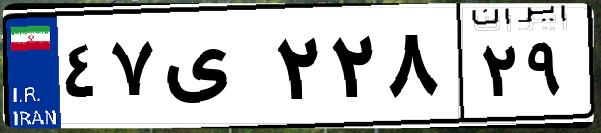2: (270, 28, 330, 110), (330, 28, 385, 110), (475, 38, 525, 113)
4: (57, 26, 110, 100)
7: (110, 28, 158, 98)
8: (385, 28, 445, 110)
9: (525, 38, 570, 115)
ی: (158, 20, 270, 120)
